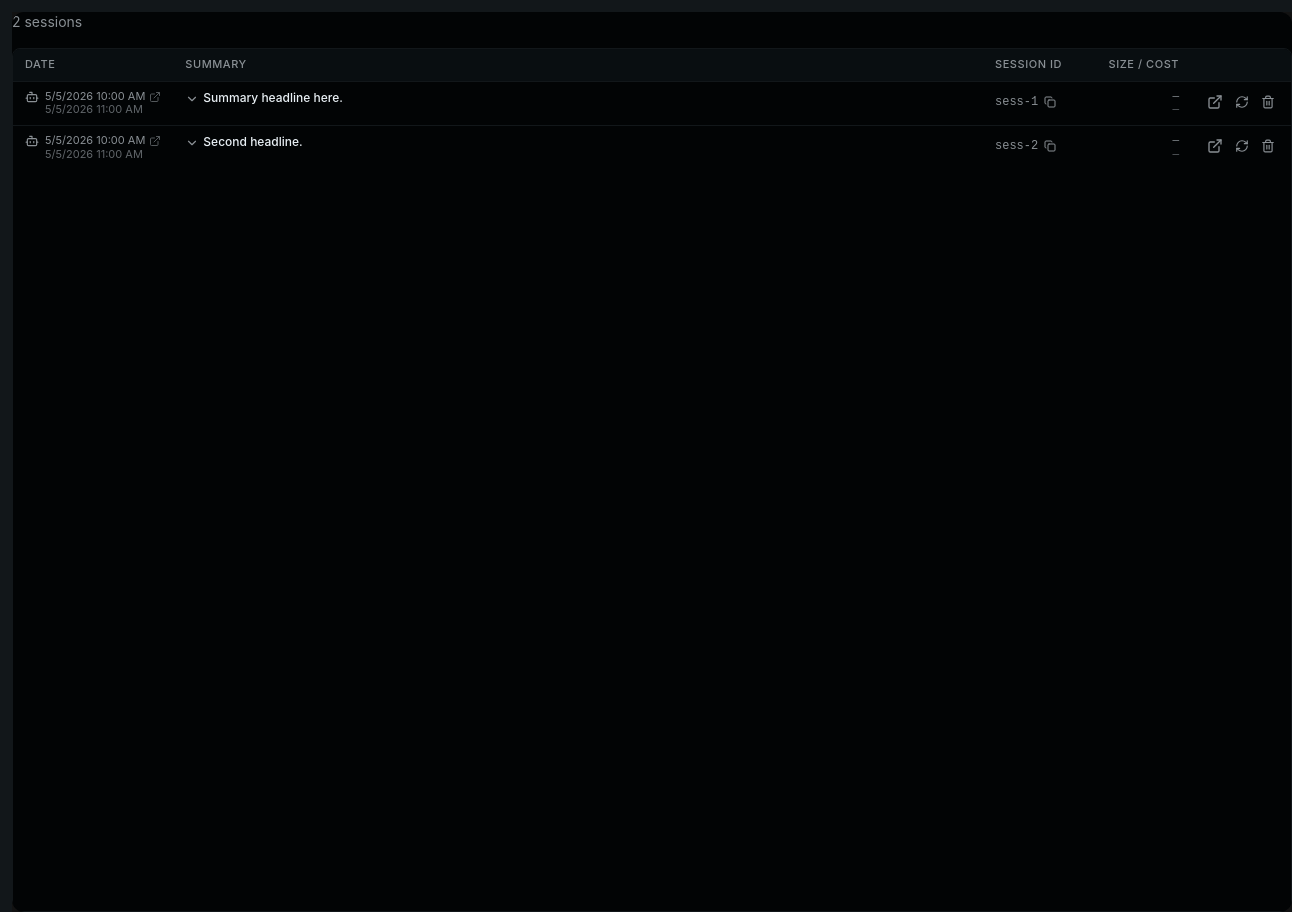
Scenario: SessionList summary rendering › expands rows independently — toggling one does not affect another
Expected: the text "Summary headline here." is shown, [203, 90, 343, 105]
Expected: the text "Second headline." is shown, [203, 134, 303, 149]
# Expand only the first row.
Click the button named "expand summary" next to "Summary headline here.": click(192, 99) [185, 92, 199, 106]
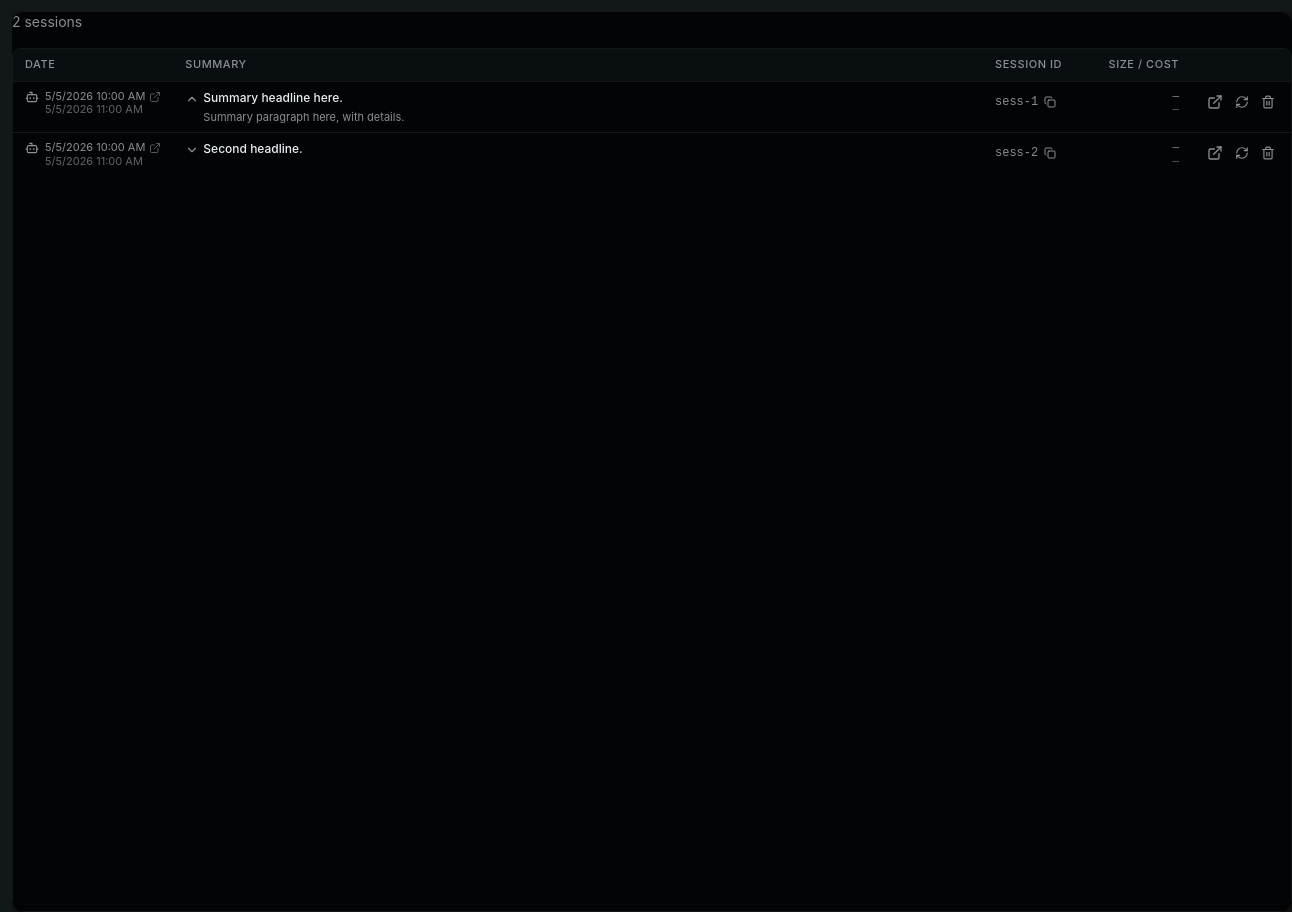
Expected: the text "Summary paragraph here, with details." is shown, [203, 110, 404, 124]
